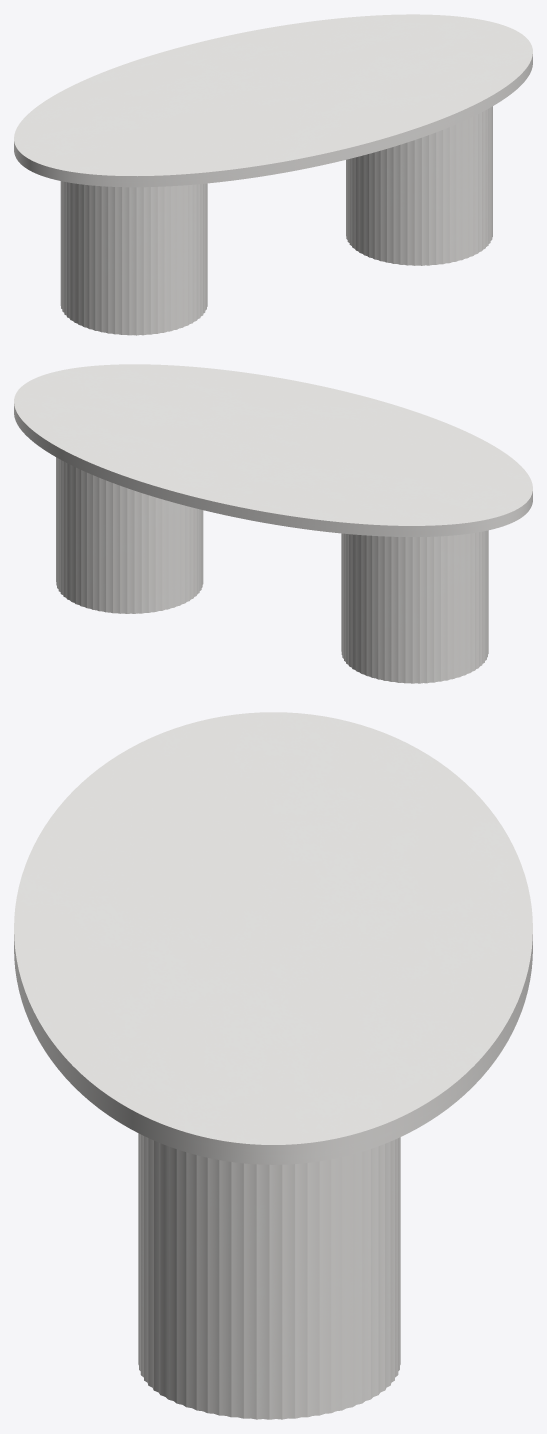
Rendered from purewhite_ellips_standard_ripplesecond.glb.
3 views of the same model, one above another, from view 1: azimuth 30°, elevation 25°; view 2: azimuth 150°, elevation 25°; view 3: azimuth 270°, elevation 25° (orthographic). The views are drawn at different scales.
Parts seen in each view (by area): view 1: standard_ellips, ripplesecond; view 2: standard_ellips, ripplesecond; view 3: standard_ellips, ripplesecond.
Part boxes in pixels (x1,y1,x2,y2): standard_ellips: (14,14,532,187); ripplesecond: (60,106,492,335); standard_ellips: (14,364,532,536); ripplesecond: (56,457,488,683); standard_ellips: (14,712,532,1164); ripplesecond: (138,1133,400,1419).
Bounding box in the file's own units: 7.5 × 2.5 × 3.8.
1 material, 1 textured.
